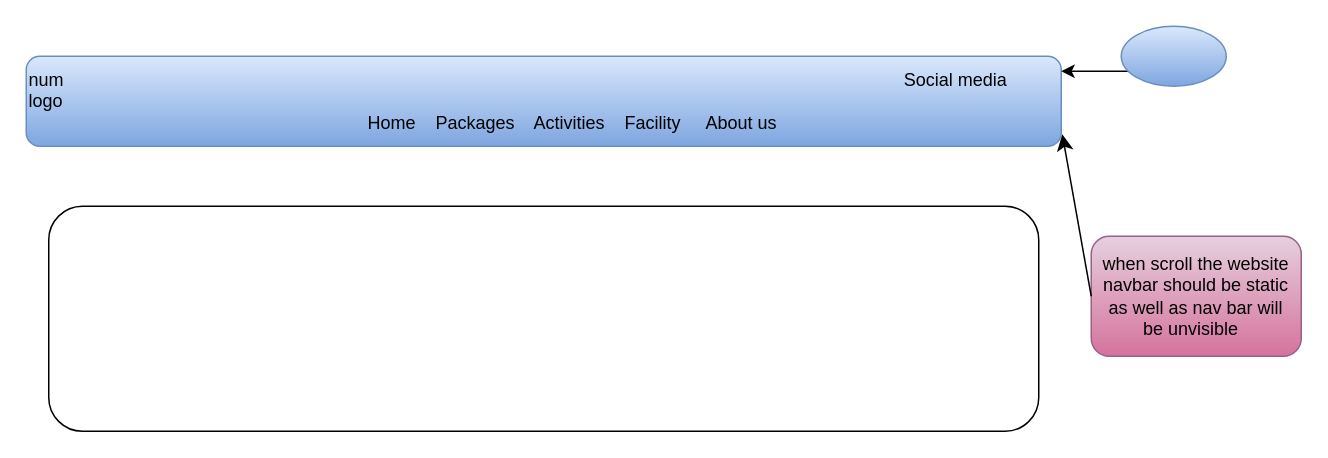
Some shapes in this 1328 by 458 pixel diagram are drawn without their labels. Here are the shapes that lost their labels. From the top down, the centre of each, then its label:
At point 1173,55: "contect section".
At point 543,318: "body".
